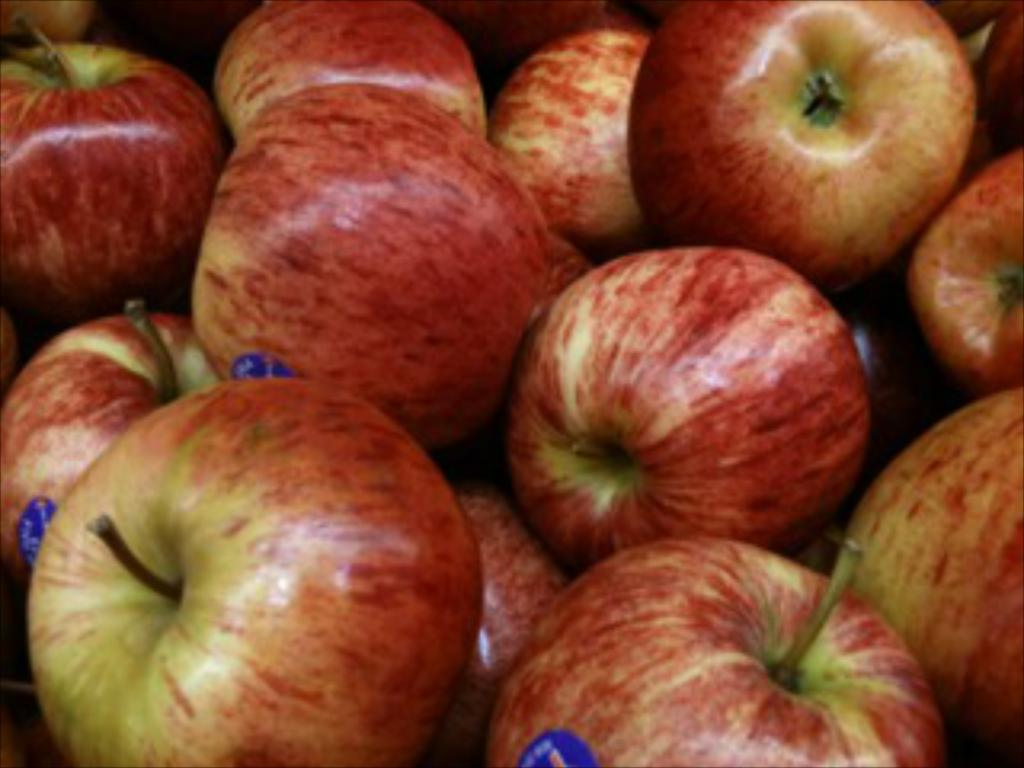Apple: (0, 0, 1020, 764), (636, 0, 963, 278)
